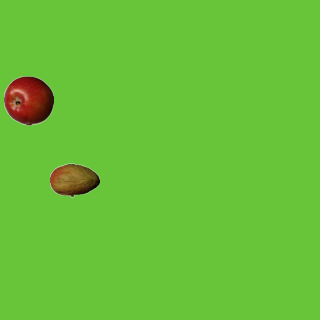Apple Braeburn: (3, 75, 53, 125)
Papaya: (49, 155, 99, 205)
